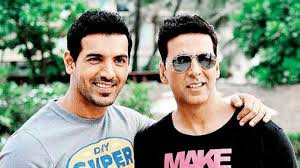Bad: (1, 9, 300, 168)
